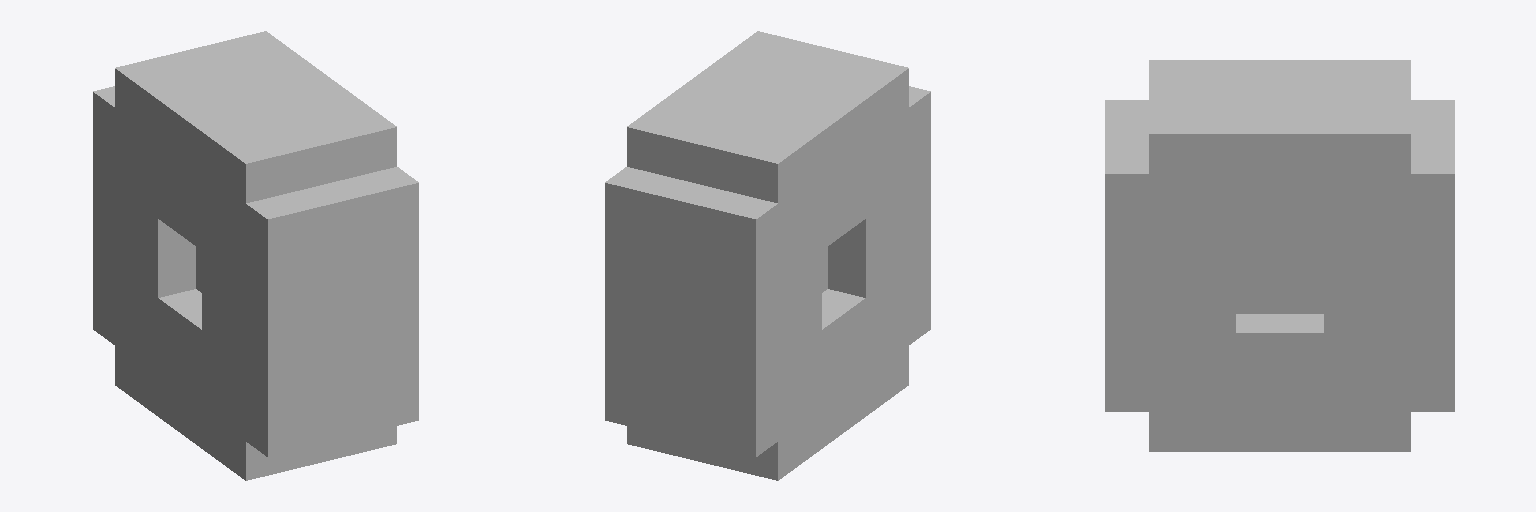
File: Free Sample-14.obj
3 renders of one model, left to right at view 1: azimuth 30°, elevation 25°; view 2: azimuth 150°, elevation 25°; view 3: azimuth 270°, elevation 25°, orthographic.
Visible parts, largest first — view 1: object 1; view 2: object 1; view 3: object 1.
Boxes of the visible parts, x1=… form: object 1: x1=93, y1=31, x2=418, y2=480; object 1: x1=605, y1=31, x2=930, y2=480; object 1: x1=1105, y1=60, x2=1454, y2=451.
Size of the model in its own units: 0.08 by 0.16 by 0.16.